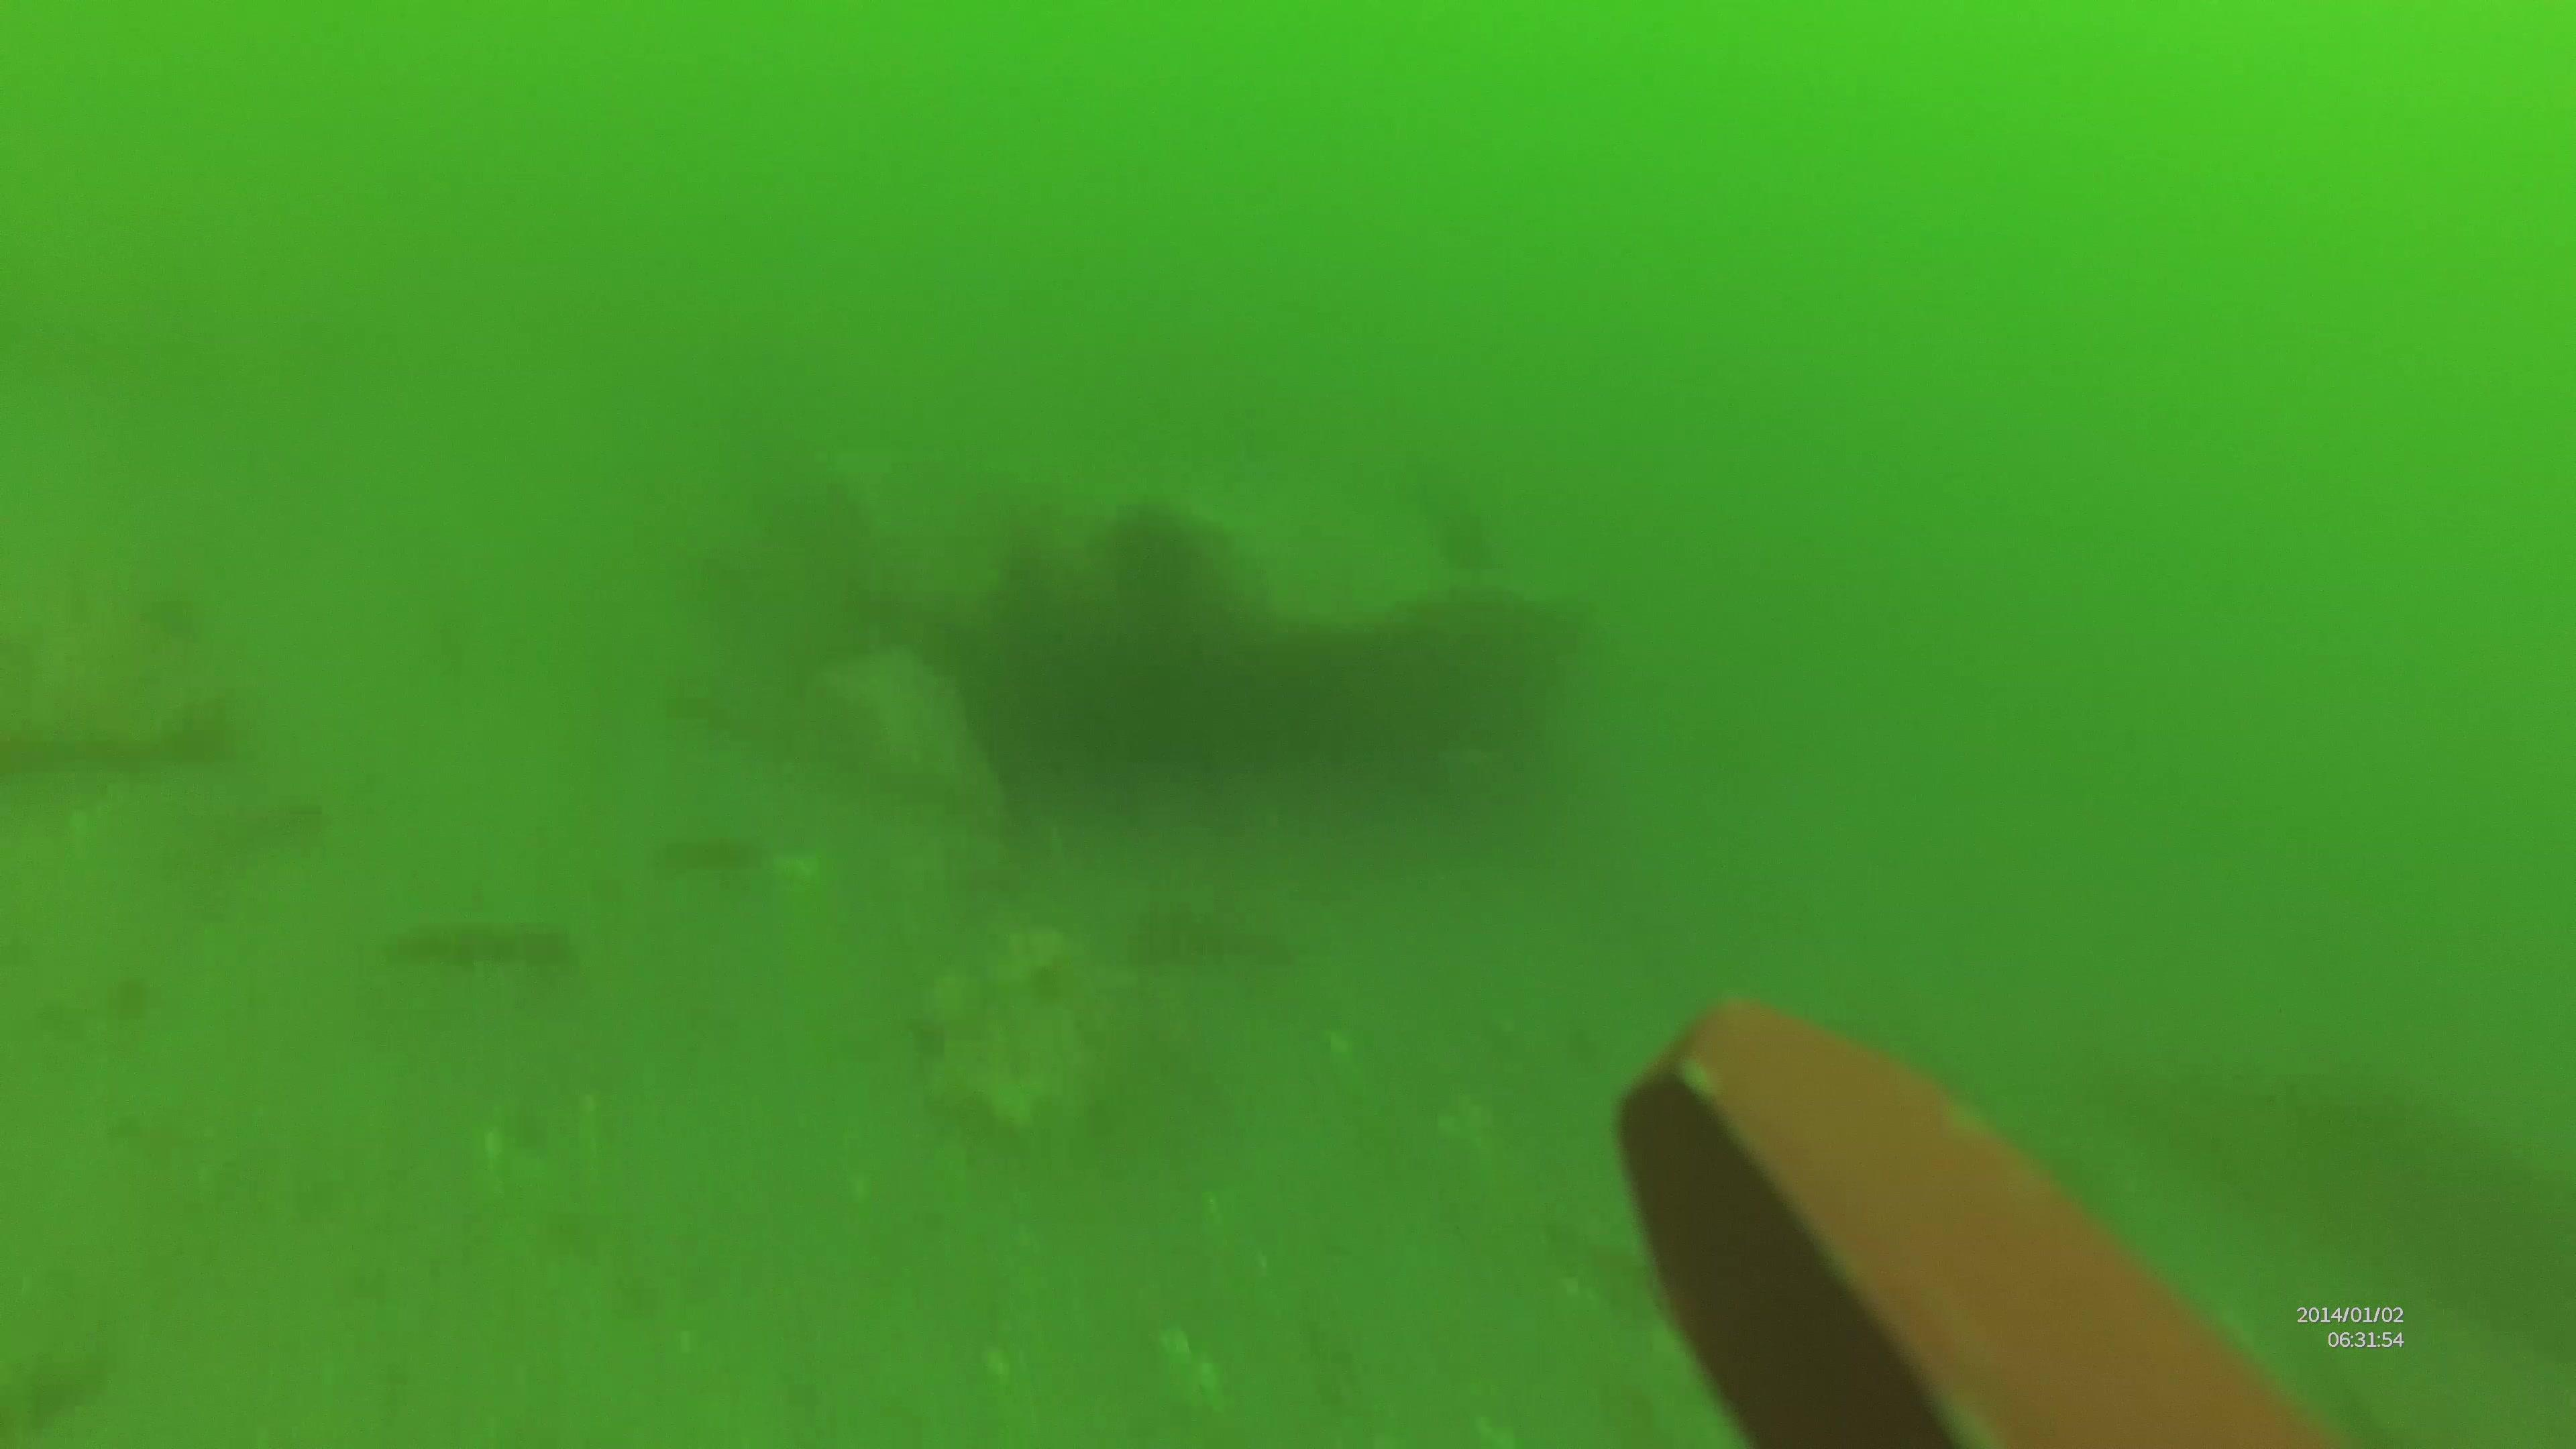holothurian: (395, 901, 582, 970)
